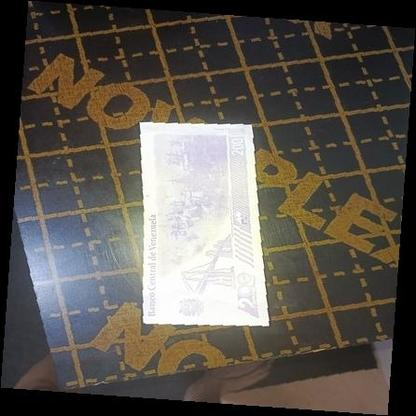two_hundred-back-vef: (138, 121, 270, 326)
